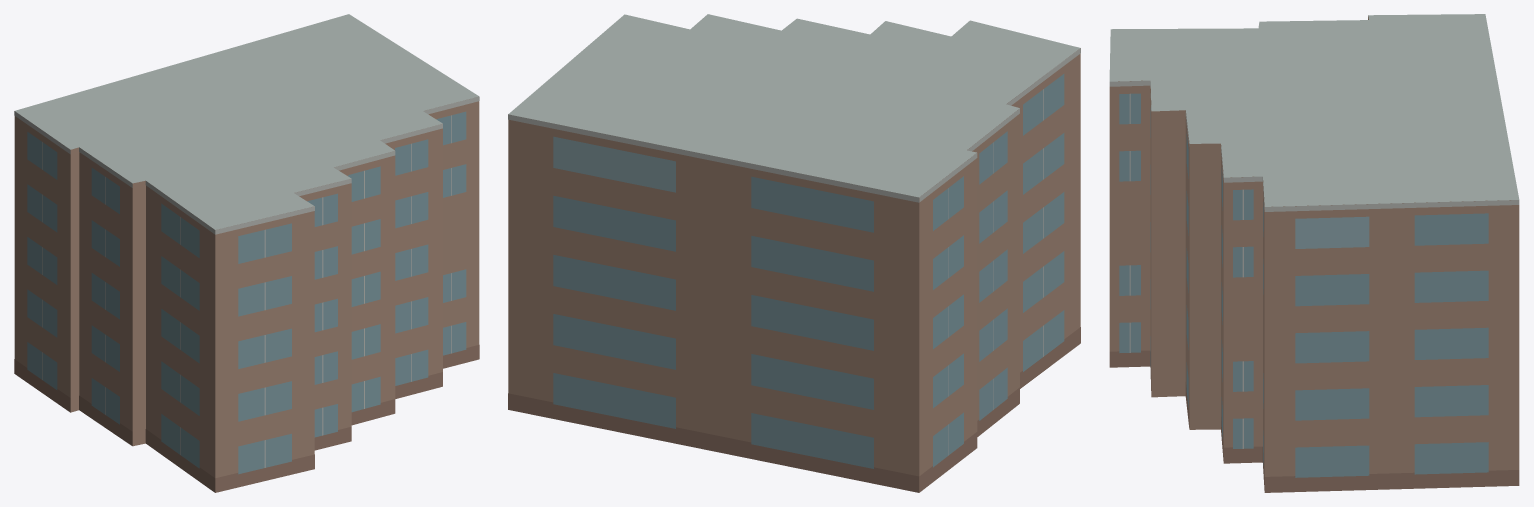
Rendered from survey-upis-33026665.glb.
The picture shows the model from 3 angles, left to right: view 1: azimuth 30°, elevation 25°; view 2: azimuth 150°, elevation 25°; view 3: azimuth 270°, elevation 25°; orthographic projection. The views are drawn at different scales.
Visible parts, largest first — view 1: survey-upis-33026665.tmp; view 2: survey-upis-33026665.tmp; view 3: survey-upis-33026665.tmp.
Boxes of the visible parts, x1,y1,x2,y2 form: survey-upis-33026665.tmp: (14, 14, 479, 492); survey-upis-33026665.tmp: (508, 14, 1080, 492); survey-upis-33026665.tmp: (1109, 14, 1519, 492).
Bounding box in the file's own units: 19.84 × 13.7 × 17.81.
